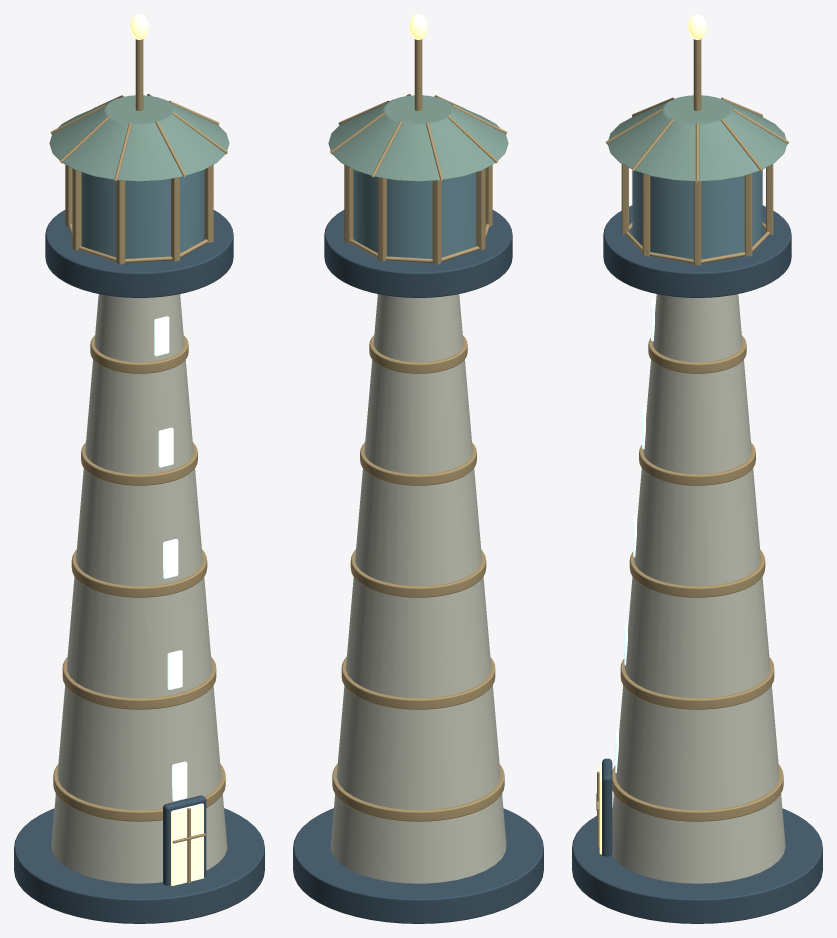
File: tower.glb
The picture shows the model from 3 angles, left to right: view 1: azimuth 30°, elevation 25°; view 2: azimuth 150°, elevation 25°; view 3: azimuth 270°, elevation 25°; orthographic projection.
Parts seen in each view (by area): view 1: tower · Warm porcelain, tower · Midnight enamel, tower · Dull brass, Lantern crown, Beacon glass, tower · New window glow, tower · Window glow; view 2: tower · Warm porcelain, tower · Midnight enamel, tower · Dull brass, Lantern crown, Beacon glass; view 3: tower · Warm porcelain, tower · Midnight enamel, tower · Dull brass, Lantern crown, Beacon glass, tower · New window glow, tower · Window glow.
Boxes of the visible parts, box(x1,y1,x2,y2) form: tower · Warm porcelain: box(51, 294, 227, 883); tower · Midnight enamel: box(14, 210, 264, 923); tower · Dull brass: box(50, 39, 227, 883); Lantern crown: box(49, 95, 229, 181); Beacon glass: box(81, 170, 204, 258); tower · New window glow: box(154, 316, 187, 801); tower · Window glow: box(130, 14, 203, 885); tower · Warm porcelain: box(330, 294, 506, 883); tower · Midnight enamel: box(293, 210, 543, 923); tower · Dull brass: box(330, 39, 507, 821); Lantern crown: box(328, 95, 508, 181); Beacon glass: box(353, 170, 476, 258); tower · Warm porcelain: box(612, 294, 785, 883); tower · Midnight enamel: box(572, 205, 822, 923); tower · Dull brass: box(596, 39, 789, 847); Lantern crown: box(607, 95, 787, 181); Beacon glass: box(632, 170, 762, 259); tower · New window glow: box(615, 298, 654, 773); tower · Window glow: box(599, 14, 706, 854).
Bounding box in the file's own units: 4 × 15.07 × 4.
